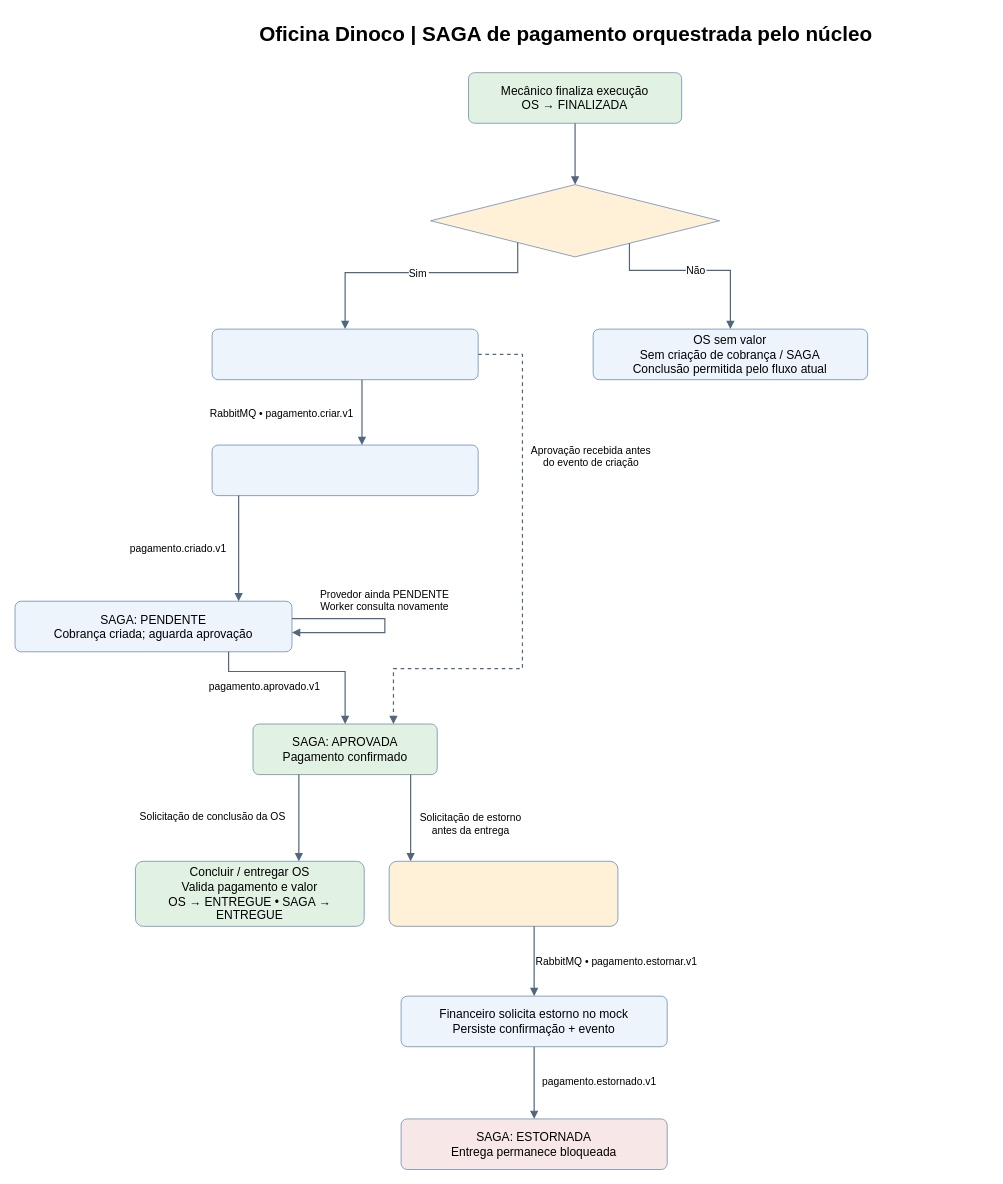
Some shapes in this 1003 by 1184 pixel diagram are drawn without their labels. The box of each missing label's shape, as (x1, y1, x2, y2) in pixels:
Financeiro registra PENDENTE Worker obtém token e cria cobrança no mock: (211, 444, 478, 496)
SAGA: ESTORNO_SOLICITADO Persiste comando na outbox Entrega bloqueada: (388, 860, 618, 926)
SAGA: SOLICITADA Persiste SAGA + comando na outbox: (211, 328, 478, 380)
Valor da OS > 0?: (430, 184, 720, 257)
